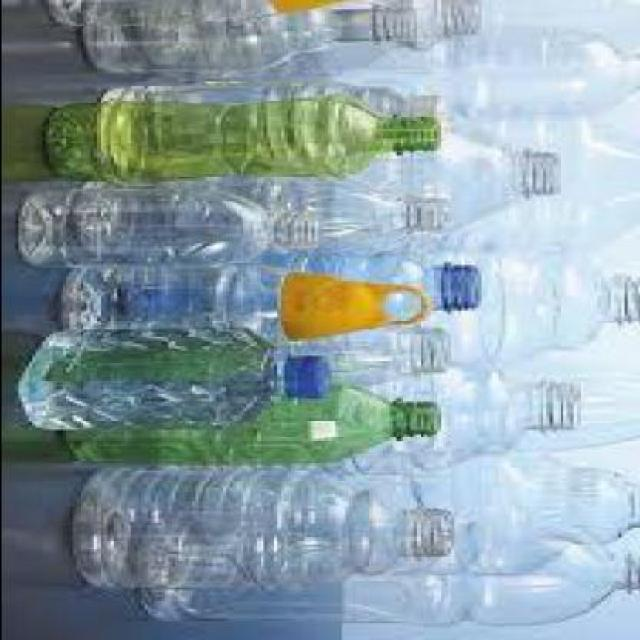PLASTIC: (138, 524, 638, 630), (75, 468, 463, 592), (364, 438, 638, 577), (61, 384, 442, 470), (20, 330, 331, 432), (44, 101, 442, 179), (333, 365, 585, 480), (337, 32, 638, 123), (17, 187, 320, 276), (82, 2, 429, 76), (456, 120, 638, 257), (78, 260, 484, 318), (188, 2, 480, 80), (472, 245, 638, 377), (347, 136, 565, 235), (204, 180, 456, 262), (62, 267, 289, 348), (99, 86, 452, 134), (472, 382, 638, 458), (265, 325, 453, 389), (286, 277, 432, 345), (47, 3, 358, 31), (472, 2, 638, 52), (283, 358, 334, 404), (276, 2, 350, 15)
